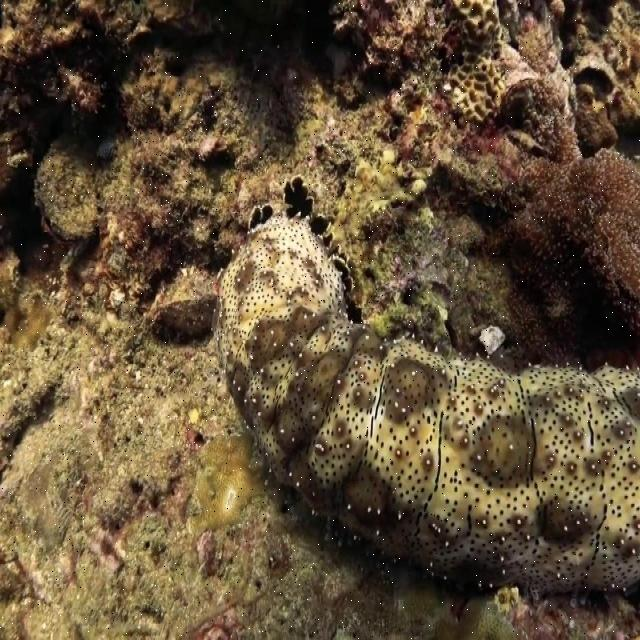reefs: (215, 175, 636, 598), (512, 32, 639, 365), (444, 16, 506, 119)
